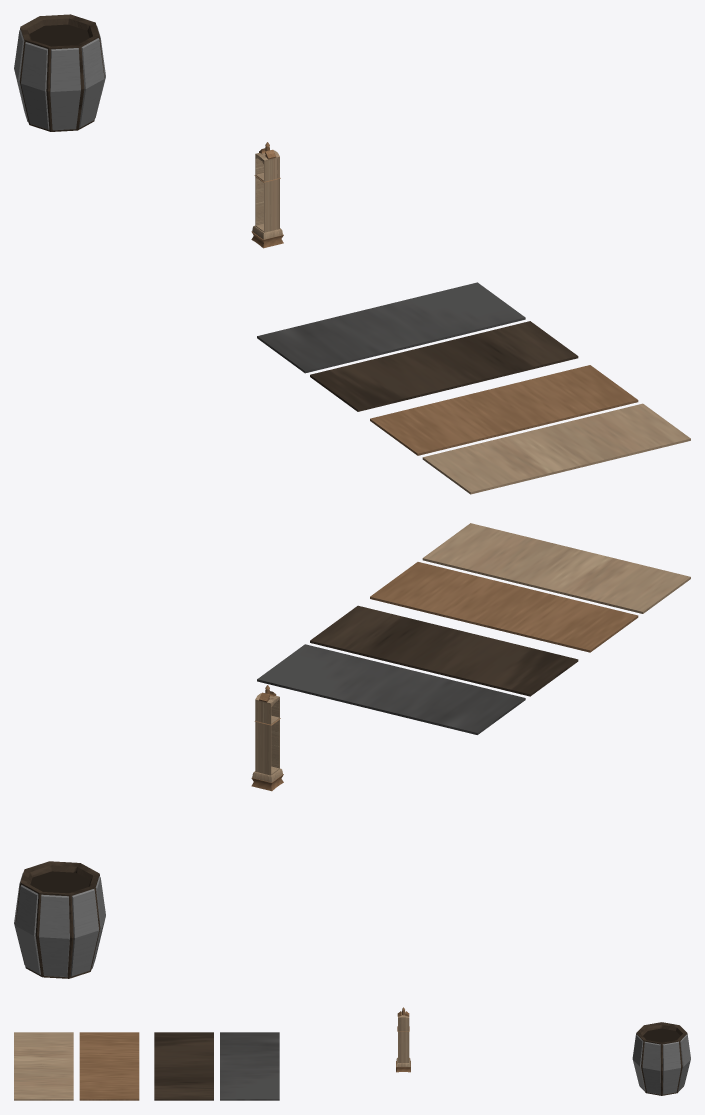
Rendered from Barrel_Clock_Floors.fbx.
3 renders of one model, top to bottom at view 1: azimuth 30°, elevation 25°; view 2: azimuth 150°, elevation 25°; view 3: azimuth 270°, elevation 25°, orthographic. The views are drawn at different scales.
Visible parts, largest first — view 1: Cube.003, Cube.005, Cube.004, Cube.006, Cylinder.008, Cube.001; view 2: Cube.006, Cube.003, Cube.005, Cube.004, Cylinder.008, Cube.001; view 3: Cube.003, Cube.004, Cube.005, Cube.006, Cylinder.008, Cube.001.
Boxes of the visible parts, box(x1,y1,x2,y2) form: Cube.003: box(370, 365, 638, 455); Cube.005: box(257, 282, 525, 373); Cube.004: box(422, 403, 690, 494); Cube.006: box(310, 321, 578, 411); Cylinder.008: box(14, 14, 105, 131); Cube.001: box(251, 142, 283, 248); Cube.006: box(310, 605, 578, 696); Cube.003: box(370, 562, 638, 652); Cube.005: box(257, 644, 525, 734); Cube.004: box(422, 523, 690, 613); Cylinder.008: box(14, 861, 105, 978); Cube.001: box(251, 685, 283, 791); Cube.003: box(79, 1032, 139, 1100); Cube.004: box(14, 1032, 73, 1100); Cube.005: box(220, 1032, 279, 1100); Cube.006: box(154, 1032, 213, 1100); Cylinder.008: box(632, 1022, 690, 1095); Cube.001: box(396, 1007, 410, 1072).
Size of the model in its own units: 717 by 396 by 3066.
1 material, 1 textured.
